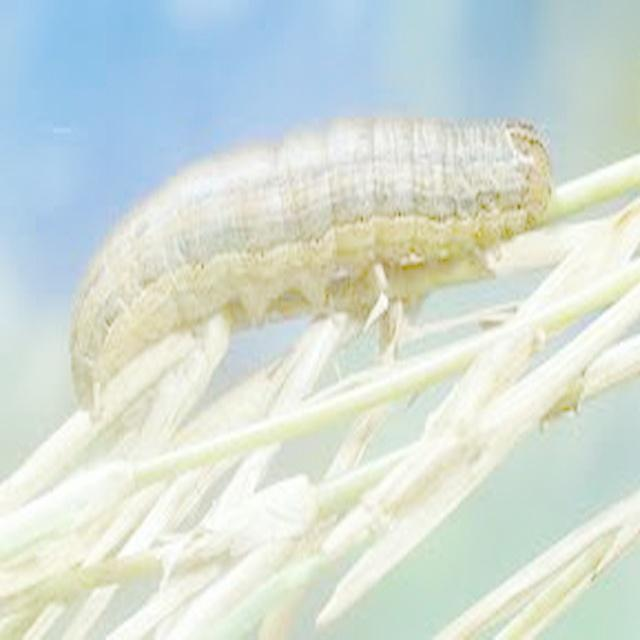gusano_cogollero: (68, 111, 556, 420)
